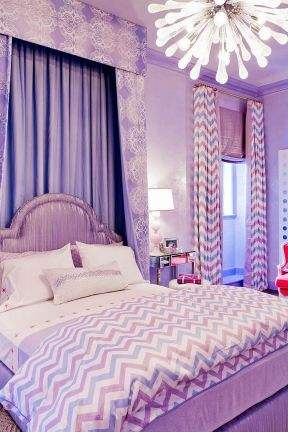床: (0, 280, 288, 421)
枕头: (0, 240, 147, 305)
灯: (151, 1, 285, 84), (147, 186, 173, 265)
